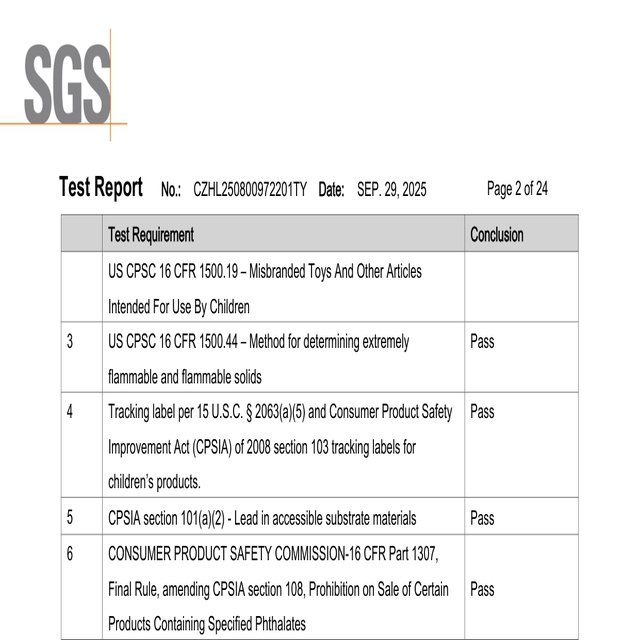sgs: (24, 43, 112, 124)
